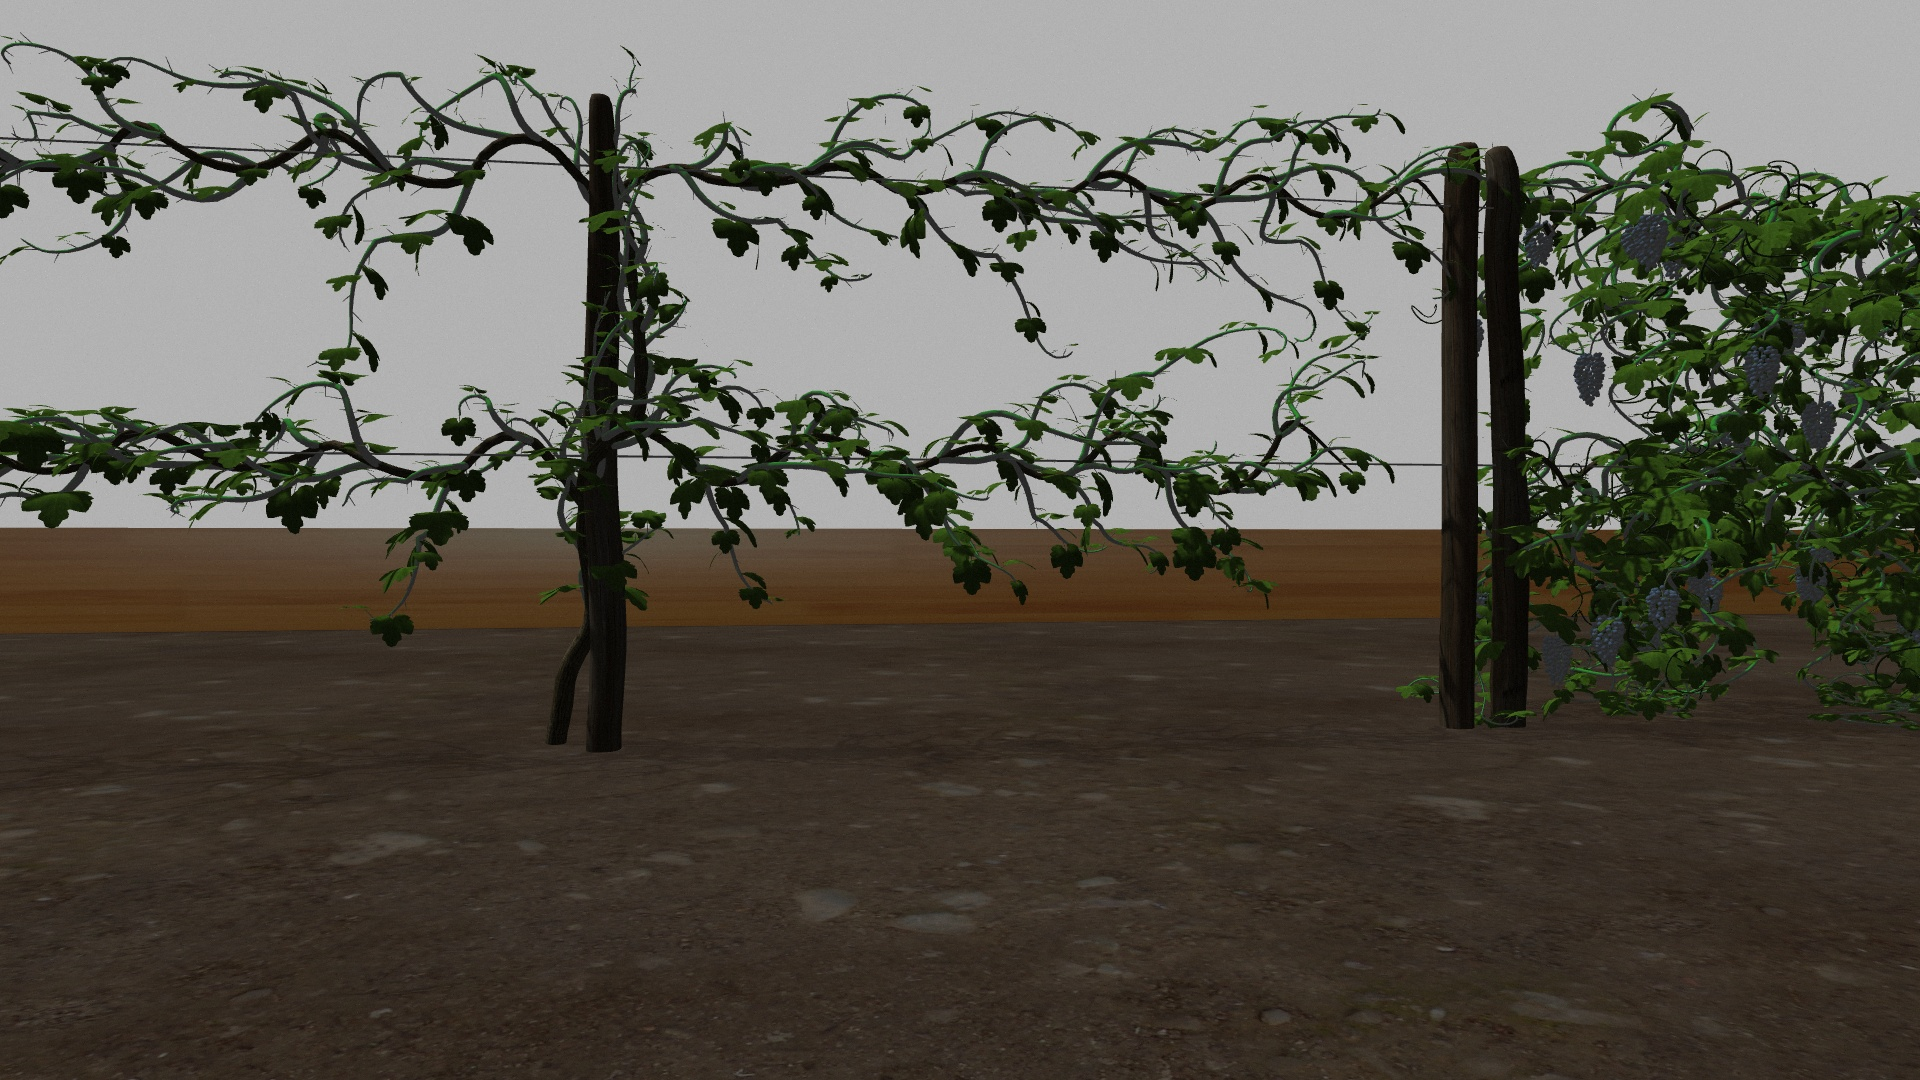grape: (1619, 215, 1669, 274), (1743, 345, 1782, 400), (1799, 400, 1837, 452), (1592, 616, 1629, 670), (1575, 351, 1607, 407), (1646, 585, 1683, 634), (1543, 636, 1575, 684), (1524, 222, 1556, 269), (1691, 568, 1725, 611), (1793, 563, 1826, 603)
